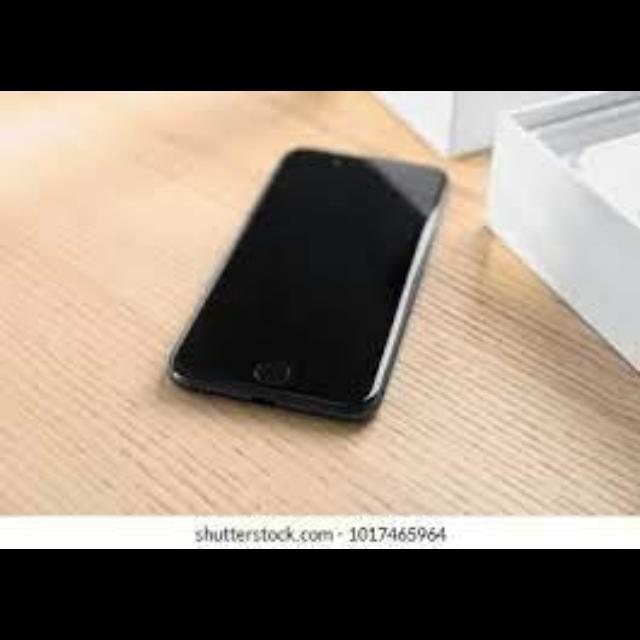PhoneUse: (169, 148, 449, 420)
